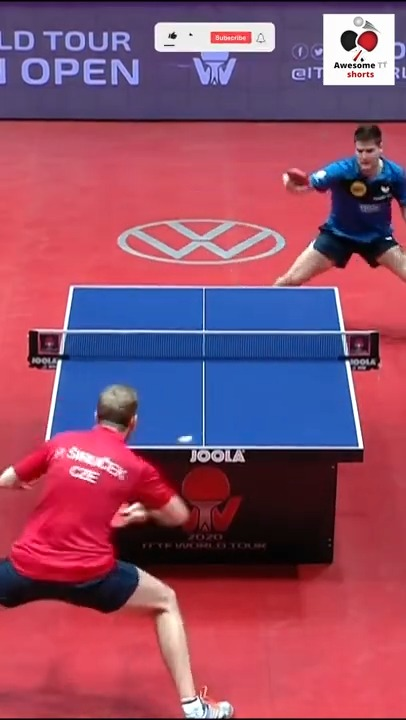Ball: (173, 432, 194, 443)
